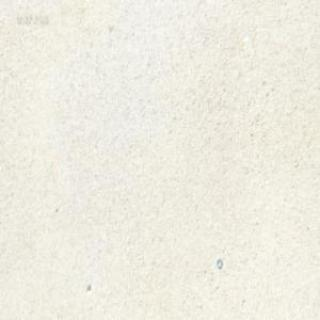Washertrack_idkeyframe: (216, 257, 222, 268)
